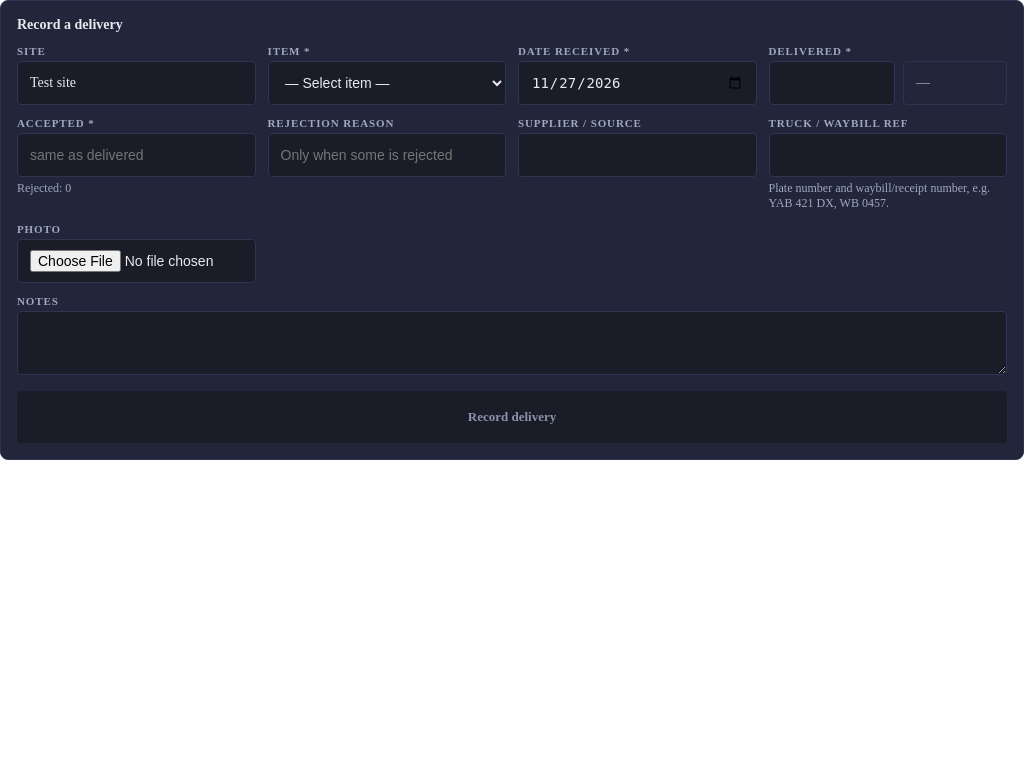
Test: clears the link when the item changes
The image size is (1024, 768).
Select "APCL diesel (litres)" in the dropdown labelled "Item *" at (387, 83), box [268,61,506,105]
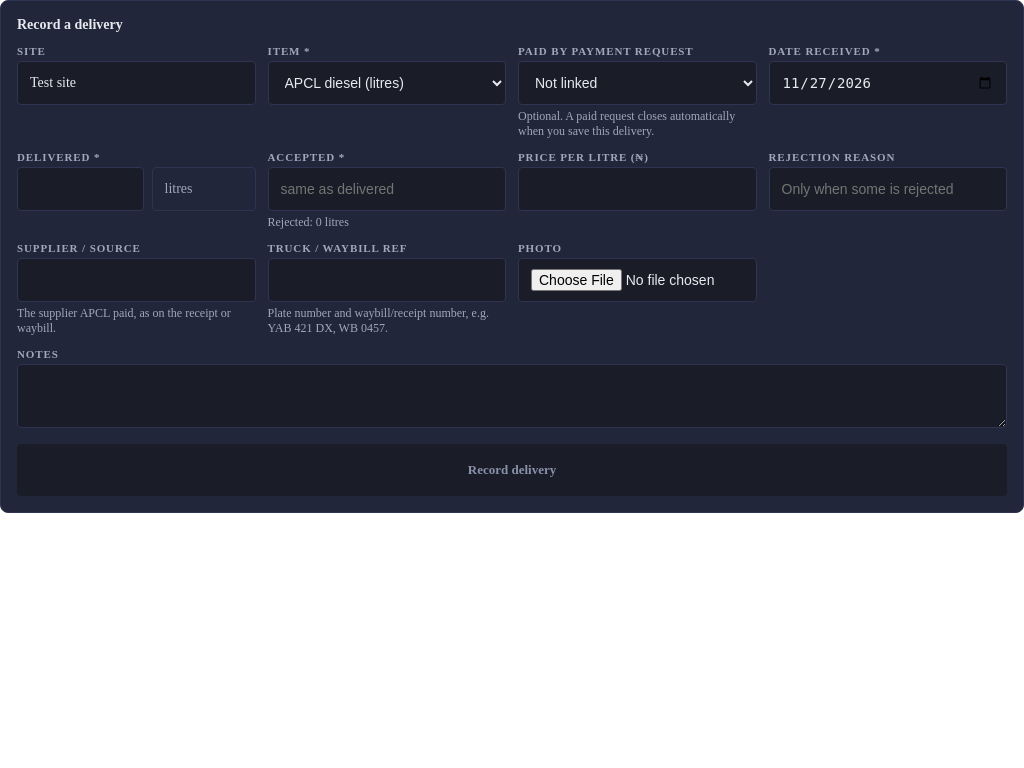
Select "PR-FUEL — ₦40,000 — Diesel for generator (Paid)" in the dropdown labelled "Paid by payment request" at (637, 83), box [518,61,756,105]
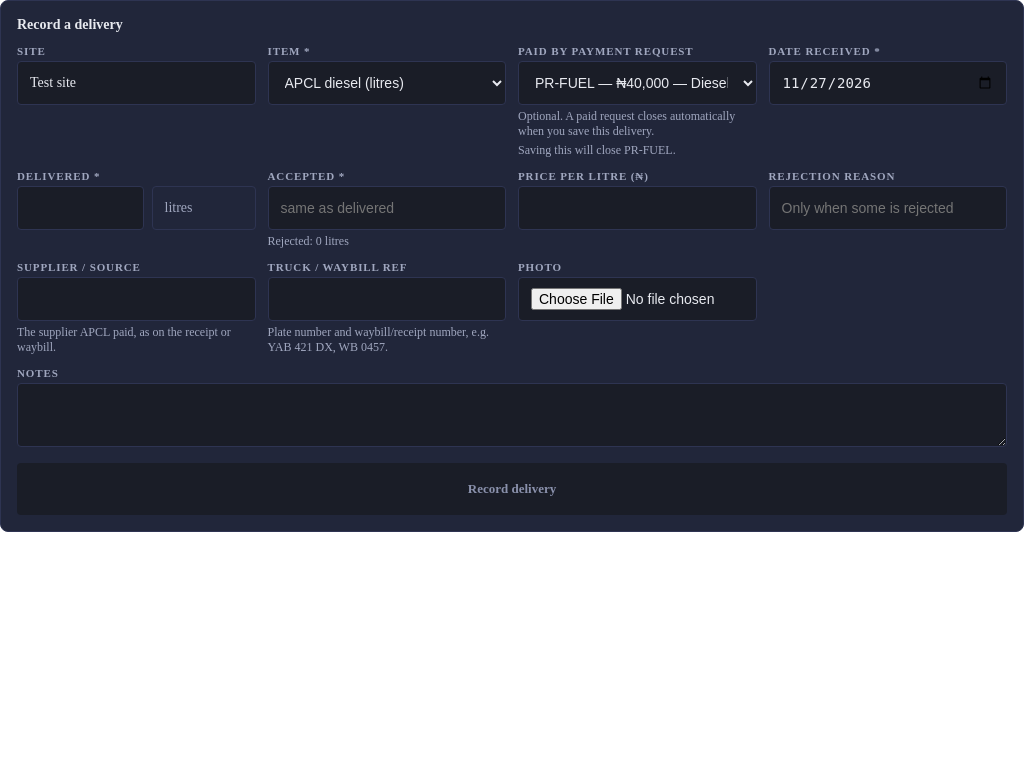
Select "APCL cement (bags)" in the dropdown labelled "Item *" at (387, 83), box [268,61,506,105]
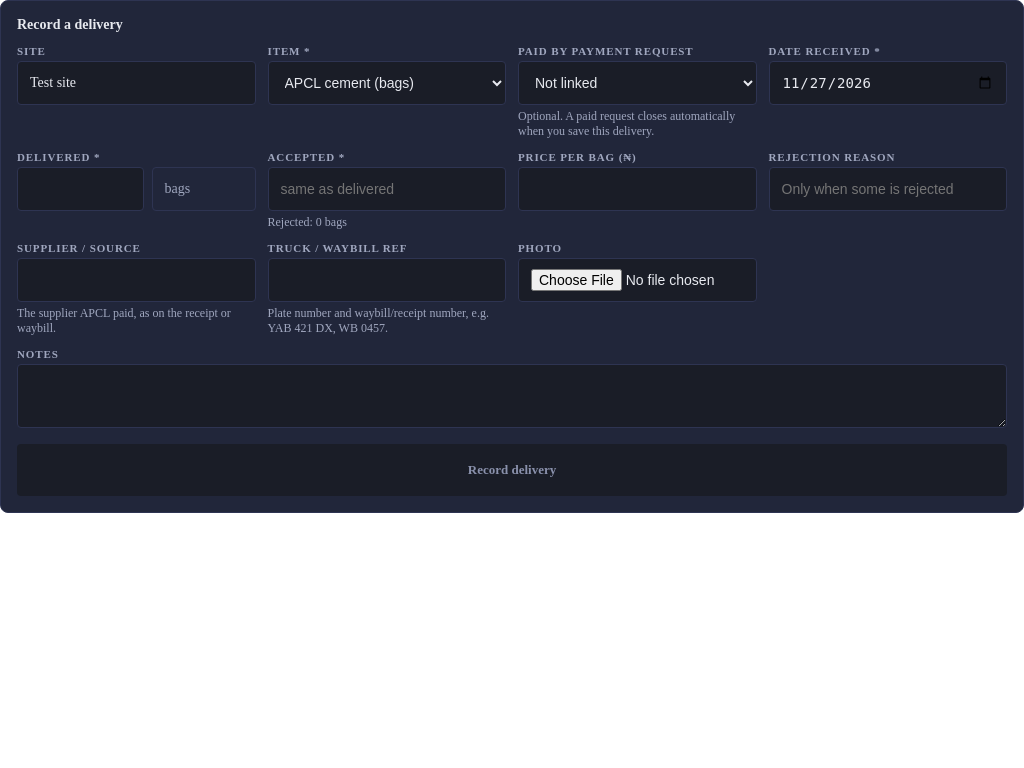
Select "APCL diesel (litres)" in the dropdown labelled "Item *" at (387, 83), box [268,61,506,105]
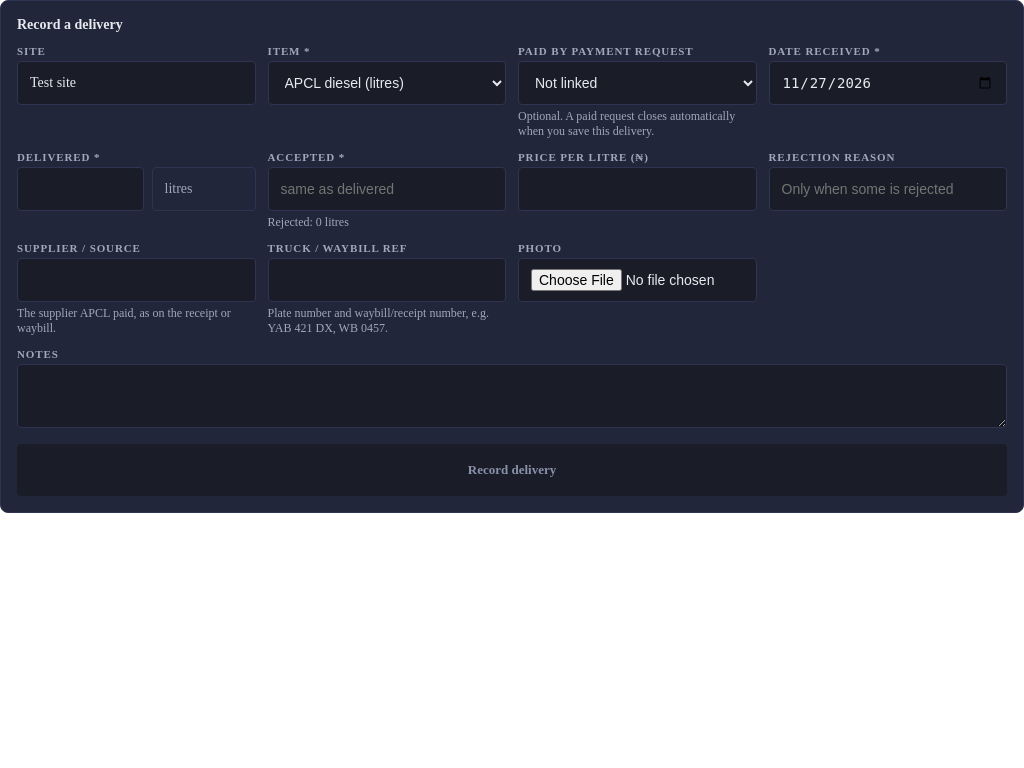
Type "10" into the number field labelled "Delivered *".
click(80, 189); type("10")  # box [17,167,144,211]
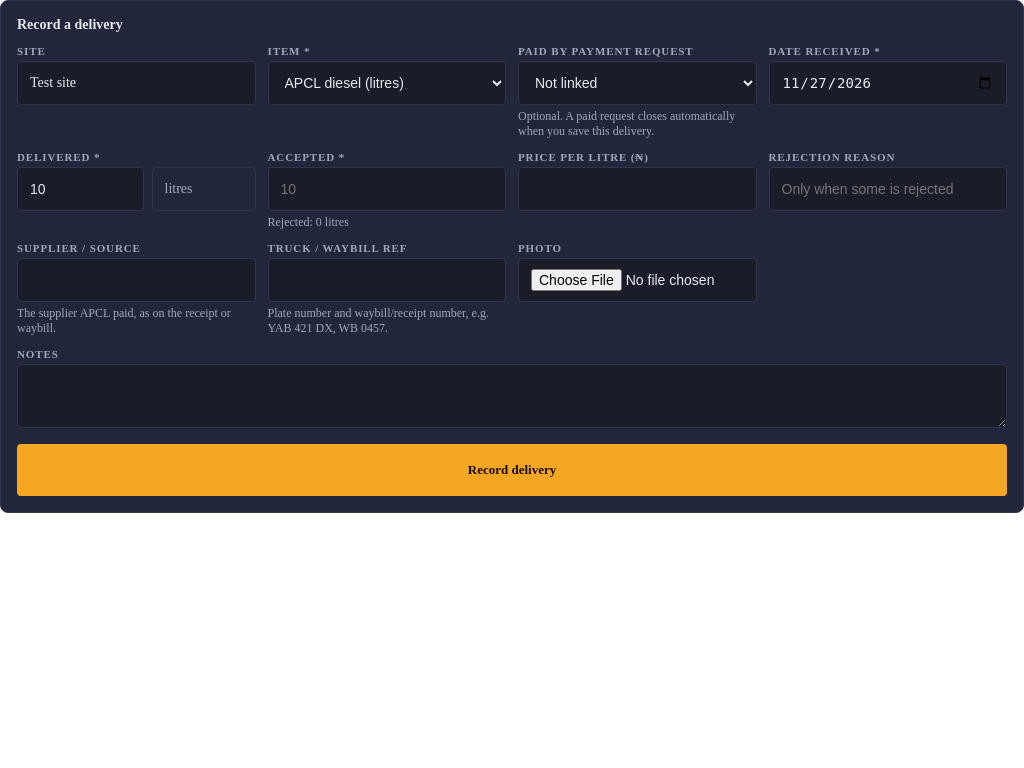
Click the button "Record delivery".
click(512, 470)  # box [17,444,1007,496]
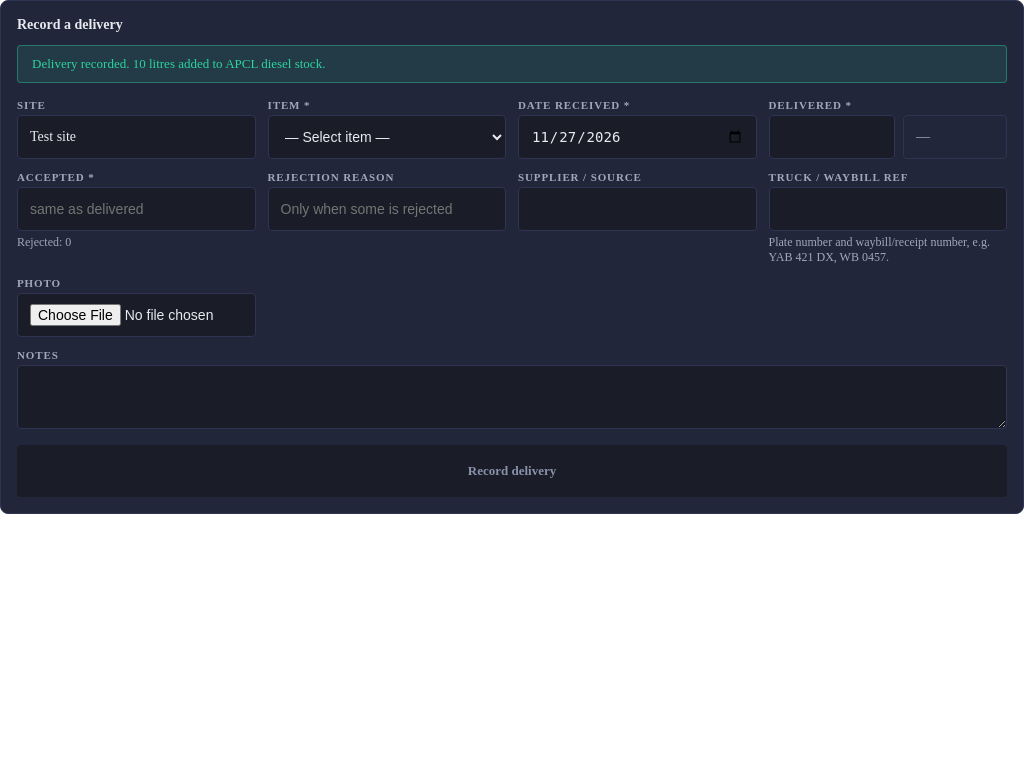
Now the text "Delivery recorded. 10 litres added to APCL diesel stock." is shown, box [17,45,1007,83]
